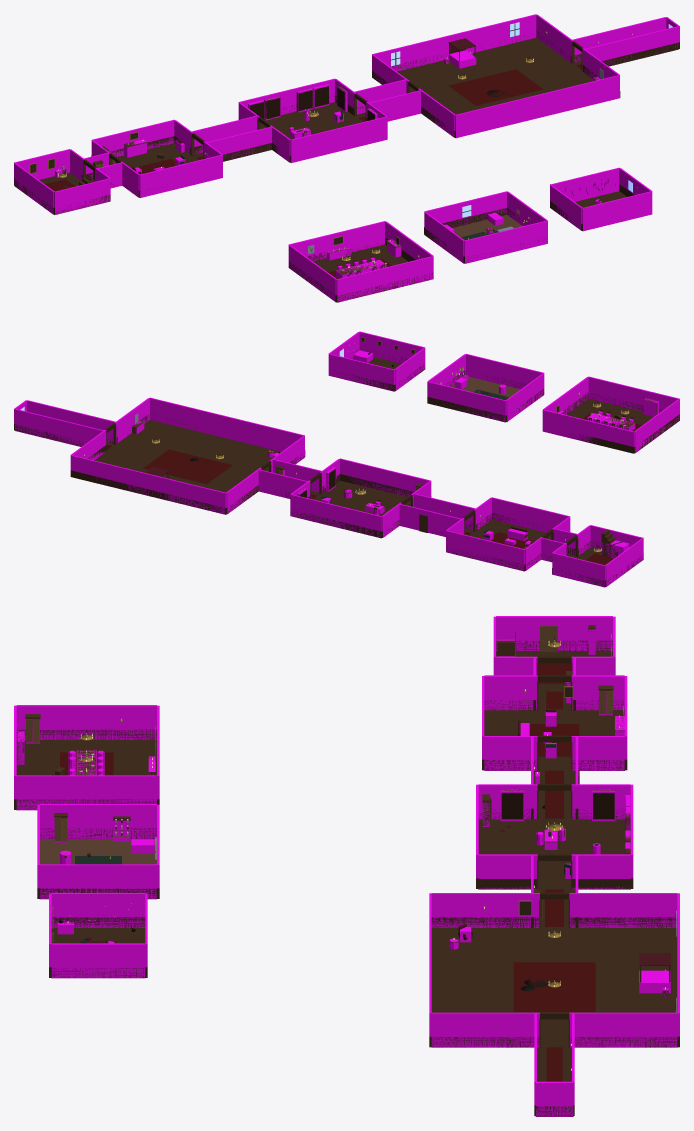
The model's file is mansao.glb.
3 renders of one model, top to bottom at view 1: azimuth 30°, elevation 25°; view 2: azimuth 150°, elevation 25°; view 3: azimuth 270°, elevation 25°, orthographic. The views are drawn at different scales.
Parts seen in each view (by area): view 1: FLOOR_quarto, COL_box_quarto_front, COL_box_quarto_back, static_MAT_CLOTH_rug_mansao, COL_box_biblio_front, COL_box_jantar_front, COL_box_sala_front, COL_box_infantil_front, COL_box_jantar_back, COL_box_olhos_front, static_MAT_CLOTH_wood_mansao, FLOOR_biblio (+32 smaller); view 2: FLOOR_quarto, COL_box_quarto_front, COL_box_quarto_back, static_MAT_CLOTH_rug_mansao, COL_box_biblio_back, COL_box_jantar_back, COL_box_corrD_back, COL_box_sala_back, COL_box_biblio_front, COL_box_jantar_front, COL_box_infantil_back, COL_box_sala_front (+32 smaller); view 3: FLOOR_quarto, static_MAT_CLOTH_rug_mansao, FLOOR_biblio, COL_box_jantar_L, COL_box_jantar_R, COL_box_quarto_Rb, COL_box_quarto_Ra, COL_box_quarto_La, COL_box_quarto_Lb, COL_box_infantil_R, FLOOR_jantar, COL_box_olhos_R (+31 smaller).
Part boxes in pixels (x1=…): FLOOR_quarto: x1=397, y1=37, x2=592, y2=114; COL_box_quarto_front: x1=455, y1=75, x2=619, y2=138; COL_box_quarto_back: x1=372, y1=14, x2=536, y2=71; static_MAT_CLOTH_rug_mansao: x1=45, y1=64, x2=581, y2=278; COL_box_biblio_front: x1=290, y1=116, x2=387, y2=162; COL_box_jantar_front: x1=336, y1=256, x2=433, y2=302; COL_box_sala_front: x1=139, y1=154, x2=222, y2=197; COL_box_infantil_front: x1=464, y1=220, x2=547, y2=263; COL_box_jantar_back: x1=288, y1=221, x2=385, y2=261; COL_box_olhos_front: x1=582, y1=191, x2=652, y2=231; static_MAT_CLOTH_wood_mansao: x1=26, y1=23, x2=601, y2=279; FLOOR_biblio: x1=260, y1=102, x2=362, y2=139; FLOOR_quarto: x1=94, y1=420, x2=280, y2=492; COL_box_quarto_front: x1=149, y1=397, x2=304, y2=451; COL_box_quarto_back: x1=70, y1=455, x2=226, y2=514; static_MAT_CLOTH_rug_mansao: x1=107, y1=412, x2=642, y2=565; COL_box_biblio_back: x1=290, y1=494, x2=382, y2=537; COL_box_jantar_back: x1=542, y1=409, x2=634, y2=446; COL_box_corrD_back: x1=15, y1=409, x2=105, y2=446; COL_box_sala_back: x1=446, y1=530, x2=524, y2=571; COL_box_biblio_front: x1=340, y1=458, x2=431, y2=496; COL_box_jantar_front: x1=588, y1=376, x2=679, y2=412; COL_box_infantil_back: x1=427, y1=381, x2=506, y2=422; COL_box_sala_front: x1=491, y1=497, x2=570, y2=532; FLOOR_quarto: x1=431, y1=928, x2=677, y2=1046; static_MAT_CLOTH_rug_mansao: x1=60, y1=663, x2=595, y2=1081; FLOOR_biblio: x1=478, y1=819, x2=630, y2=888; COL_box_jantar_L: x1=16, y1=705, x2=156, y2=739; COL_box_jantar_R: x1=16, y1=775, x2=156, y2=810; COL_box_quarto_Rb: x1=431, y1=1012, x2=539, y2=1047; COL_box_quarto_Ra: x1=569, y1=1012, x2=677, y2=1047; COL_box_quarto_La: x1=569, y1=893, x2=677, y2=927; COL_box_quarto_Lb: x1=431, y1=893, x2=539, y2=927; COL_box_infantil_R: x1=40, y1=864, x2=156, y2=899; FLOOR_jantar: x1=16, y1=740, x2=156, y2=775; COL_box_olhos_R: x1=51, y1=943, x2=145, y2=978.
Bounding box in the file's own units: 94.43 × 3.62 × 56.94.
